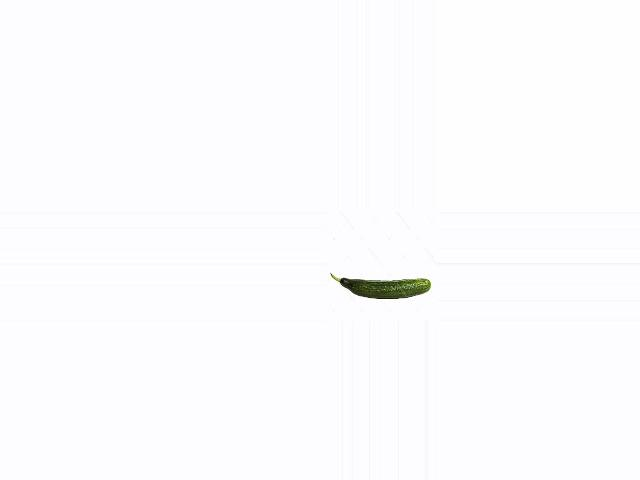cucumber: (329, 273, 430, 298)
